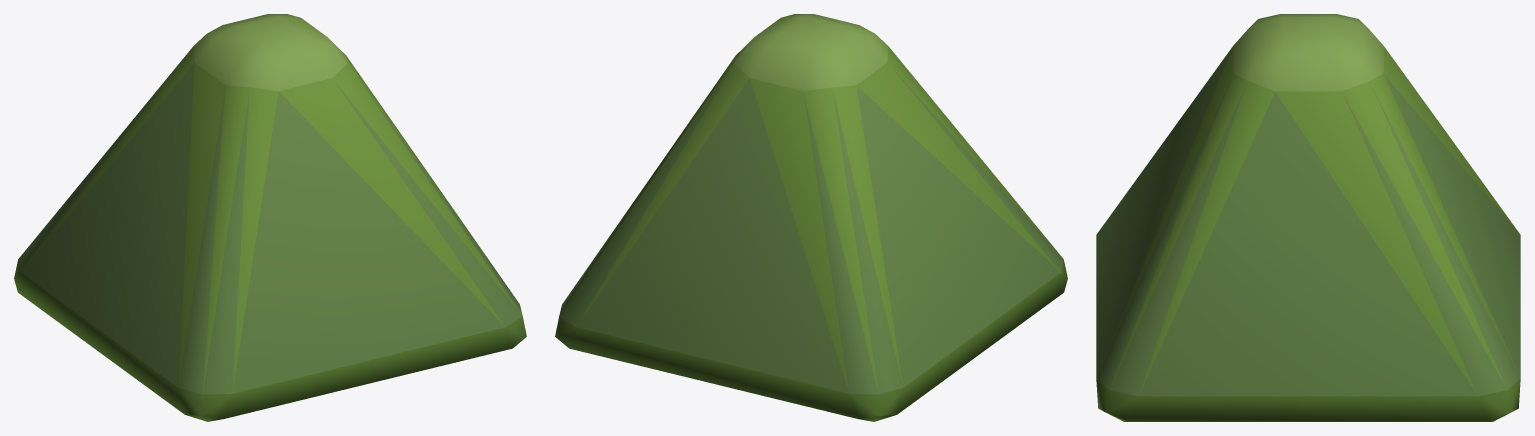
Rendered from itch_kaykit_forest_bush_4_c_color1.glb.
3 renders of one model, left to right at view 1: azimuth 30°, elevation 25°; view 2: azimuth 150°, elevation 25°; view 3: azimuth 270°, elevation 25°, orthographic. The views are drawn at different scales.
Visible parts, largest first — view 1: Bush_4_C_Color1; view 2: Bush_4_C_Color1; view 3: Bush_4_C_Color1.
Part boxes in pixels (bbox=[...]): Bush_4_C_Color1: bbox=[14, 14, 526, 421]; Bush_4_C_Color1: bbox=[555, 14, 1067, 421]; Bush_4_C_Color1: bbox=[1096, 14, 1520, 421].
Bounding box in the file's own units: 0.96 × 0.7905 × 0.96.
